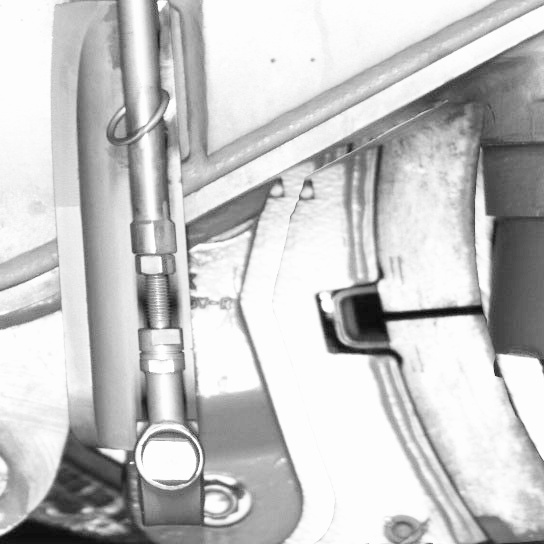ClosedKnifeSwitch: (382, 139, 542, 542)
